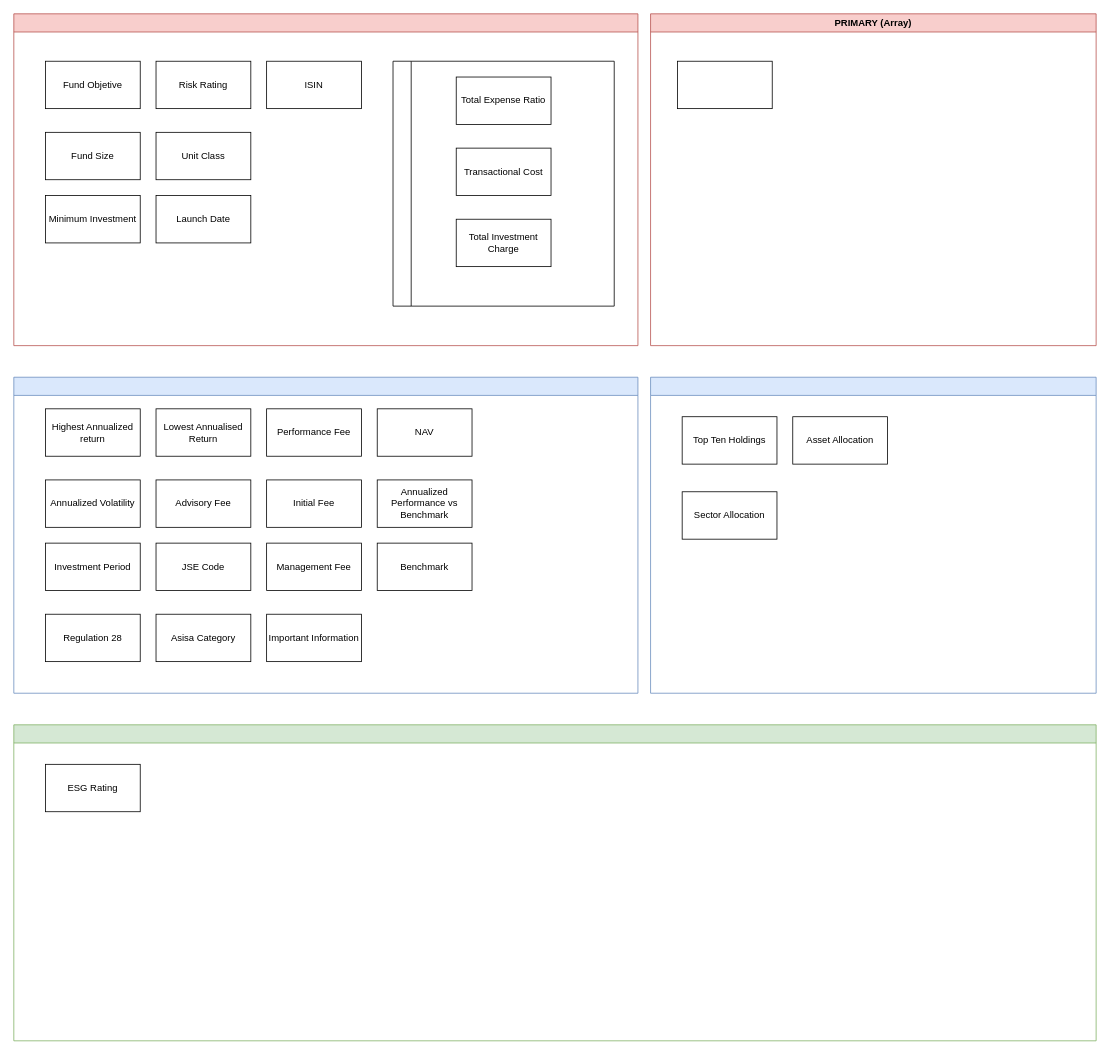
The diagram is 1110 pixels wide and 1055 high, and some of its shapes have lost their labels. Here are the shapes that lost their labels. From the top down, the box of each, then its label:
(677, 60, 772, 109): Income Distribution Date
(13, 13, 638, 346): PRIMARY (Scalar)
(392, 60, 614, 306): FEES
(13, 376, 638, 693): SECONARY (Scalar)
(650, 376, 1096, 693): SECONARY (Array)
(13, 724, 1096, 1041): TERTIARY
